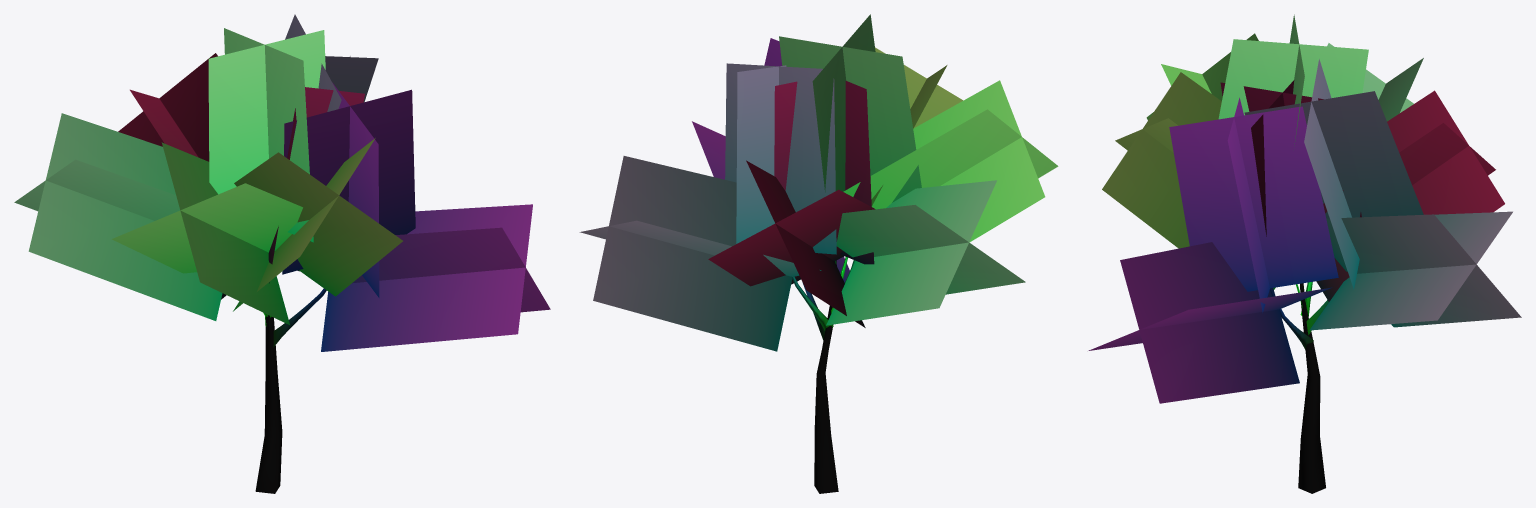
File: SuperTree_26.fbx
3 renders of one model, left to right at view 1: azimuth 30°, elevation 25°; view 2: azimuth 150°, elevation 25°; view 3: azimuth 270°, elevation 25°, orthographic. The views are drawn at different scales.
Parts seen in each view (by area): view 1: SuperTree_26; view 2: SuperTree_26; view 3: SuperTree_26.
Boxes of the visible parts, x1=… form: SuperTree_26: x1=14, y1=14, x2=550, y2=493; SuperTree_26: x1=579, y1=14, x2=1058, y2=493; SuperTree_26: x1=1088, y1=14, x2=1521, y2=493.
Bounding box in the file's own units: 601 × 617 × 544.
